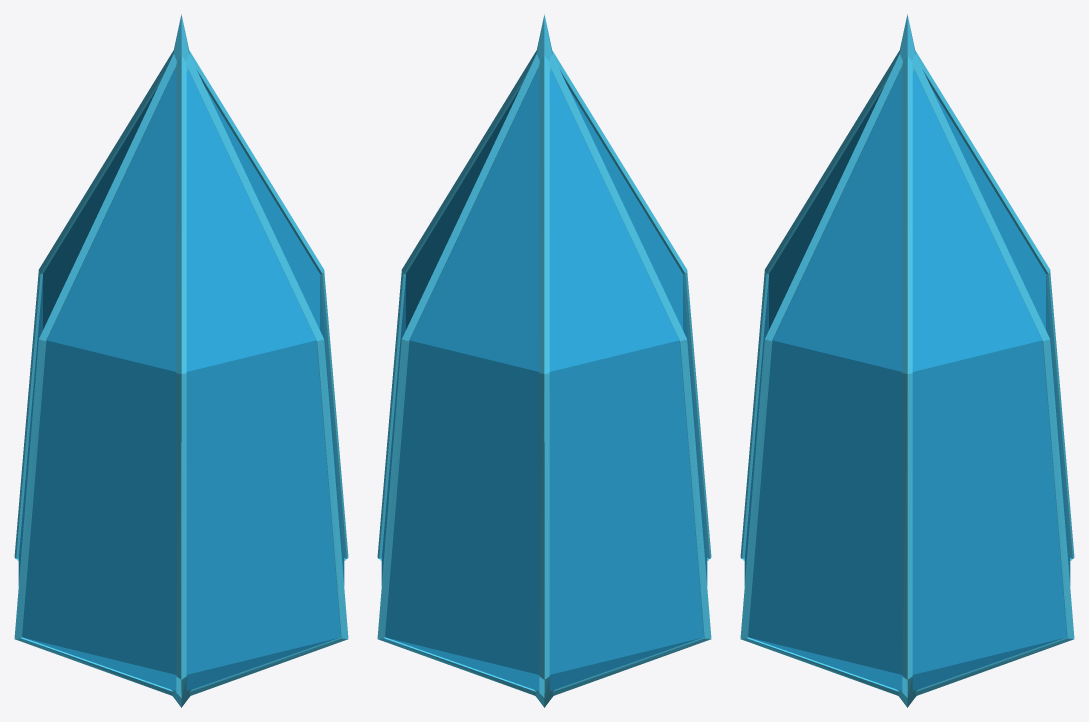
The model's file is GuardianHeart.obj.
3 renders of one model, left to right at view 1: azimuth 30°, elevation 25°; view 2: azimuth 150°, elevation 25°; view 3: azimuth 270°, elevation 25°, orthographic.
Visible parts, largest first — view 1: GuardianHeart; view 2: GuardianHeart; view 3: GuardianHeart.
Boxes of the visible parts, bbox=[...] form: GuardianHeart: bbox=[14, 14, 348, 707]; GuardianHeart: bbox=[377, 14, 711, 707]; GuardianHeart: bbox=[740, 14, 1074, 707].
Bounding box in the file's own units: 0.1108 × 0.22 × 0.096.
